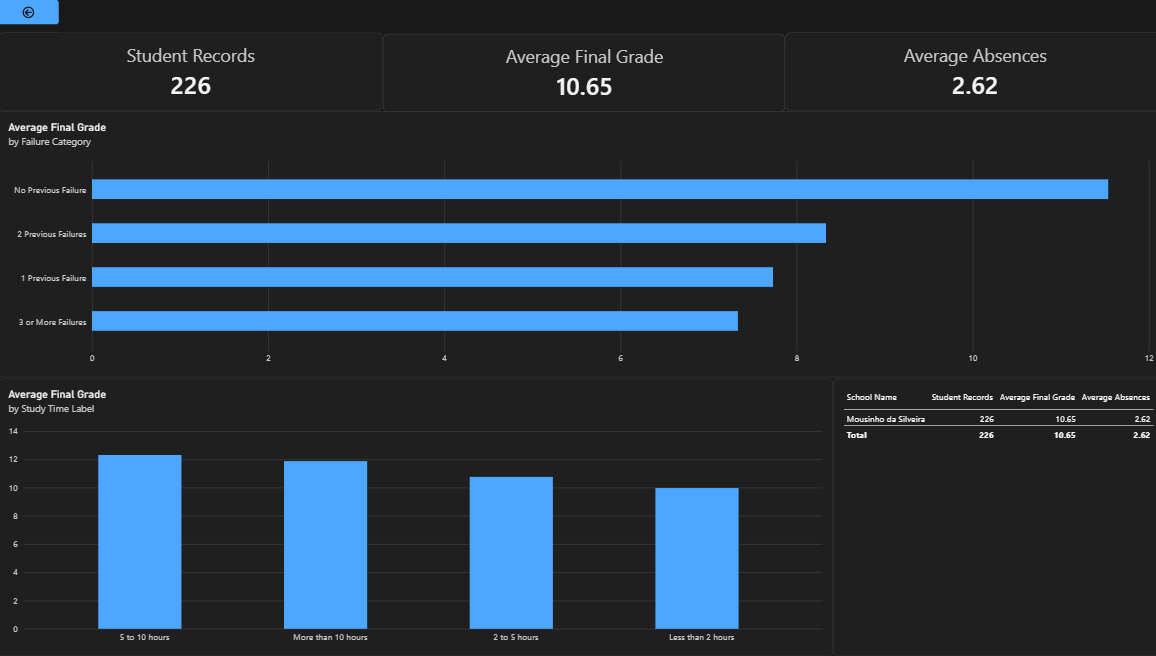

The dashboard page shown, as its layout file describes it:
{"tool":"powerbi","page":{"name":"School Detail","canvas":[1920,1080],"ordinal":1},"visuals":[{"type":"actionButton","box":[0,0,100,40],"z":0},{"type":"cardVisual","fields":{"Data":["student-por.Student Records"]},"box":[0,53.5,634,129.7],"z":1},{"type":"cardVisual","fields":{"Data":["student-por.Average Final Grade"]},"box":[634,55.6,662.8,129.7],"z":2},{"type":"cardVisual","fields":{"Data":["student-por.Average Absences"]},"box":[1296.7,53.5,623.7,129.7],"z":3},{"type":"clusteredColumnChart","fields":{"Category":["student-por.Study Time Label"],"Y":["student-por.Average Final Grade"]},"box":[0,623.7,1375,456.9],"z":4},{"type":"clusteredBarChart","fields":{"Category":["student-por.Failure Category"],"Y":["student-por.Average Final Grade"]},"box":[0,183.2,1920.4,438.4],"z":5},{"type":"tableEx","fields":{"Values":["student-por.School Name","student-por.Student Records","student-por.Average Final Grade","student-por.Average Absences"]},"box":[1375,623.7,545.5,456.9],"z":6}]}

Visuals, with their boxes in screenshot pixels (x1, y1, x2, y2), scaled from the page's 1920x1080 canvas onto the 1156x656 screenshot:
actionButton: 0/0/60/24
cardVisual - student-por.Student Records: 0/32/382/111
cardVisual - student-por.Average Final Grade: 382/34/781/113
cardVisual - student-por.Average Absences: 781/32/1155/111
clusteredColumnChart - student-por.Study Time Label x student-por.Average Final Grade: 0/379/828/655
clusteredBarChart - student-por.Failure Category x student-por.Average Final Grade: 0/111/1155/378
tableEx - student-por.School Name x student-por.Student Records: 828/379/1155/655
